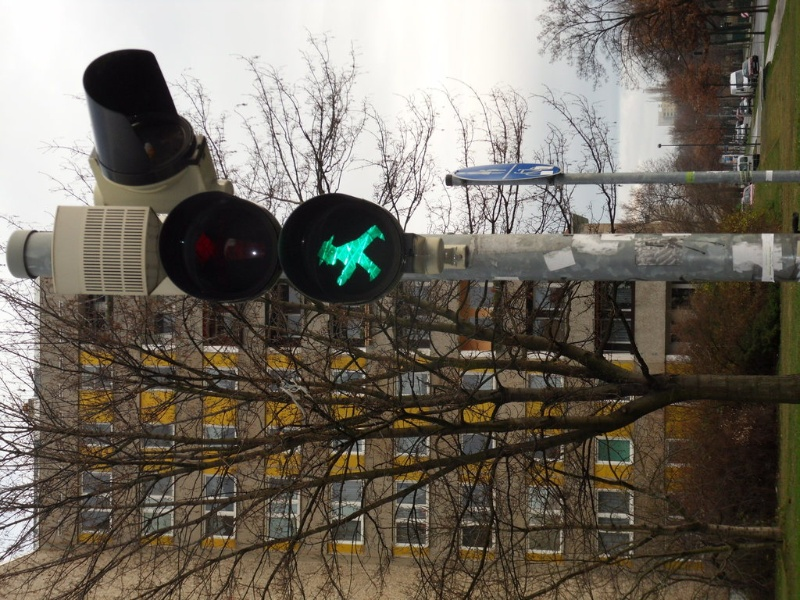green_light: (287, 185, 397, 313)
